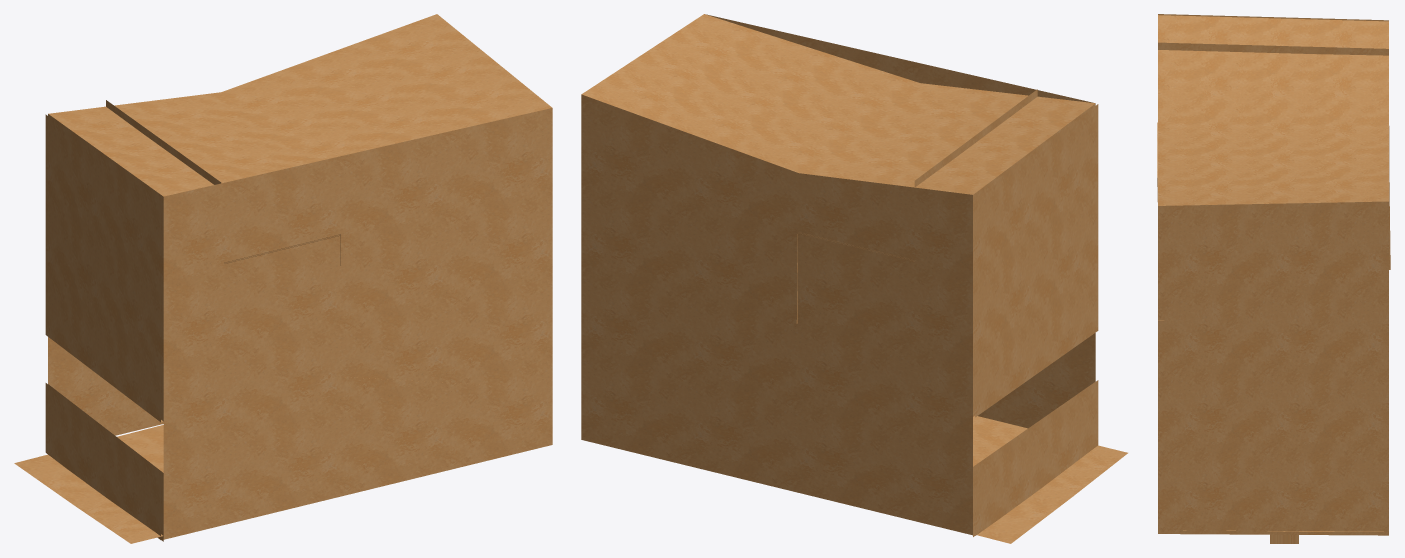
The model's file is parteqgira.fbx.
The picture shows the model from 3 angles, left to right: view 1: azimuth 30°, elevation 25°; view 2: azimuth 150°, elevation 25°; view 3: azimuth 270°, elevation 25°; orthographic projection. The views are drawn at different scales.
Visible parts, largest first — view 1: parteqgira; view 2: parteqgira; view 3: parteqgira.
Part boxes in pixels (x1,y1,x2,y2): parteqgira: (14,14,552,543); parteqgira: (581,14,1127,543); parteqgira: (1157,14,1390,543).
Size of the model in its own units: 6612 by 5448 by 3229.
